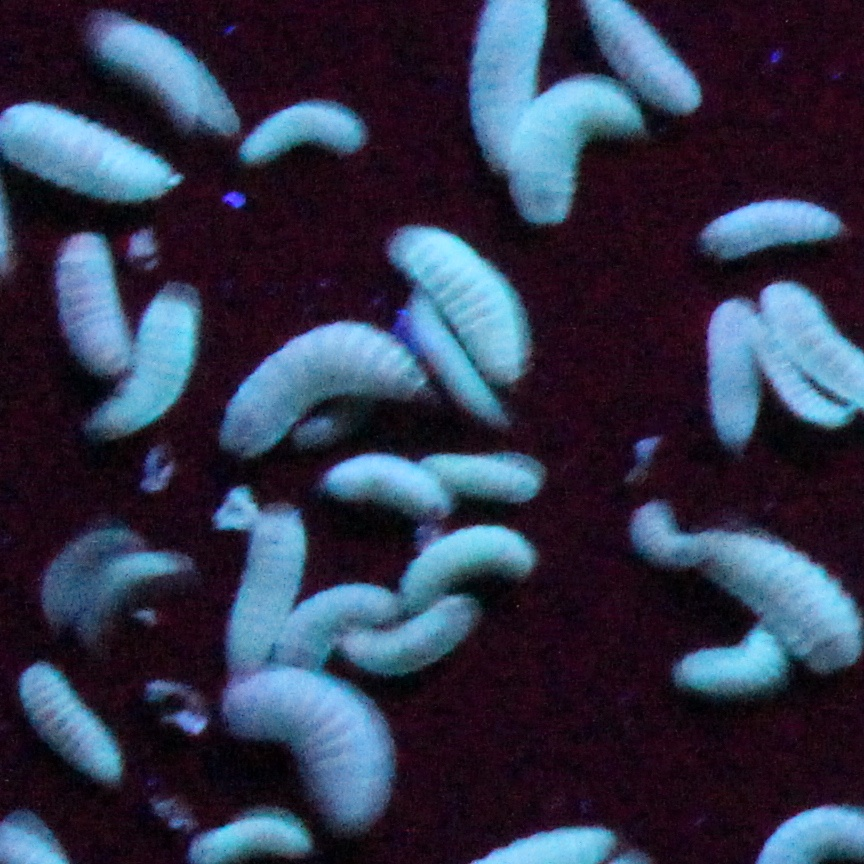larve: (645, 510, 855, 657), (226, 675, 391, 828), (221, 323, 418, 449), (401, 226, 531, 381), (1, 99, 176, 200), (99, 11, 234, 137), (115, 289, 211, 434), (532, 85, 633, 217), (223, 505, 303, 664), (21, 663, 122, 787), (53, 233, 129, 375), (80, 555, 190, 641), (404, 524, 535, 595), (352, 605, 492, 669), (280, 583, 385, 661), (703, 308, 763, 442), (699, 199, 839, 251), (679, 636, 784, 704), (246, 97, 357, 161), (325, 459, 446, 516), (439, 451, 540, 500)
